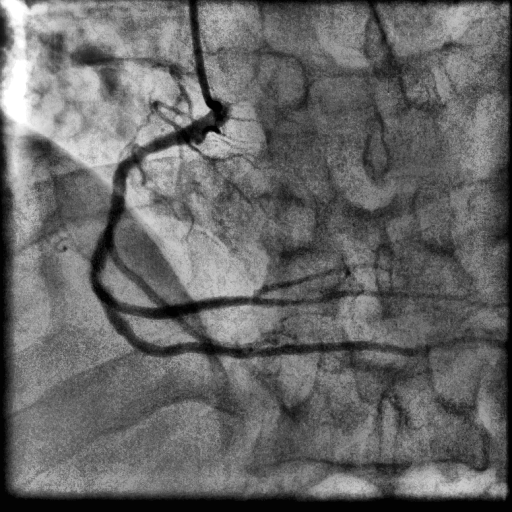pborca: (109, 289, 423, 320)
pda: (97, 298, 505, 358)
rca: (89, 99, 232, 308)
